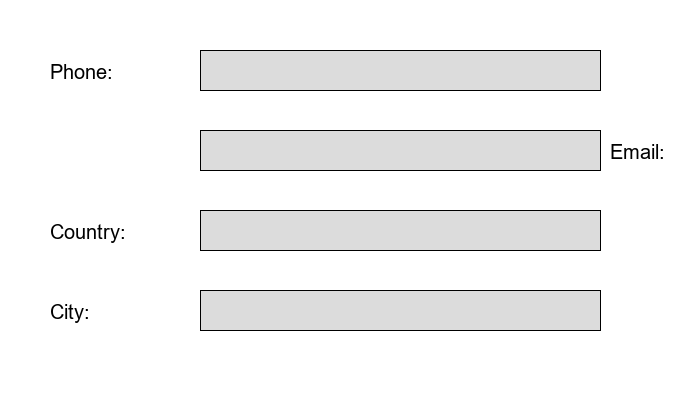Label: (50, 220, 120, 239), (50, 60, 107, 75), (610, 140, 659, 155), (50, 300, 84, 319)
Textbox: (200, 50, 600, 90), (200, 130, 600, 170), (200, 210, 600, 250), (200, 290, 600, 330)
